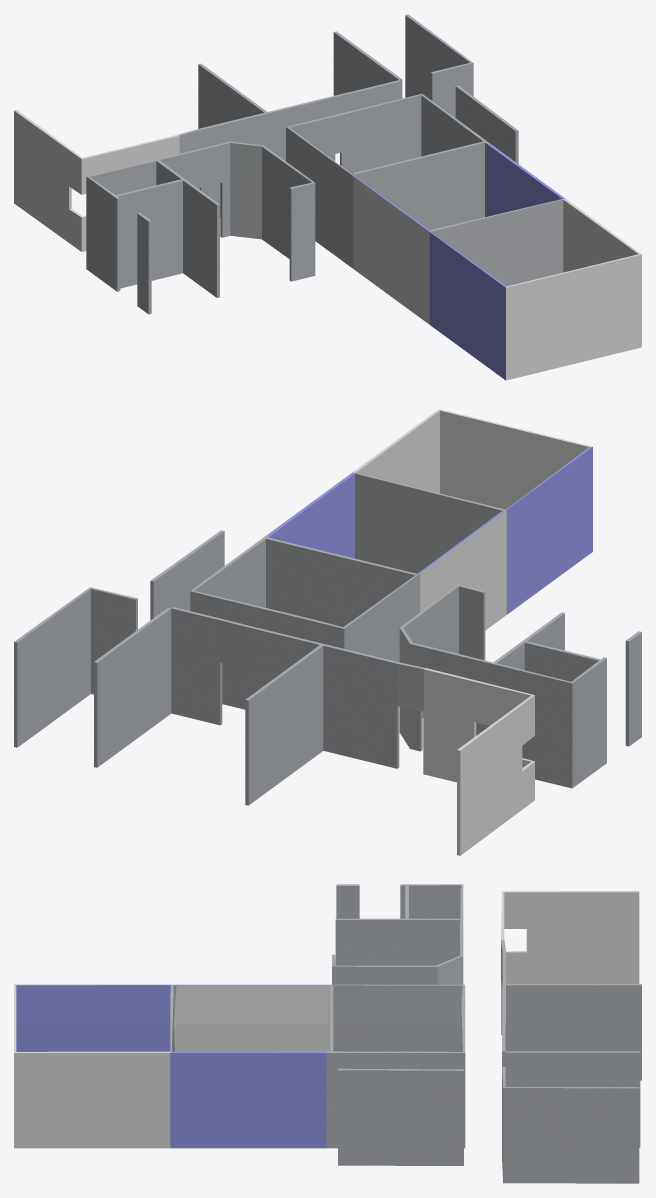
The model's file is inner-walls.fbx.
3 views of the same model, one above another, from view 1: azimuth 30°, elevation 25°; view 2: azimuth 150°, elevation 25°; view 3: azimuth 270°, elevation 25° (orthographic). The views are drawn at different scales.
Visible parts, largest first — view 1: innerwall; view 2: innerwall; view 3: innerwall.
Boxes of the visible parts, x1,y1,x2,y2 form: innerwall: [14, 14, 641, 380]; innerwall: [14, 409, 641, 855]; innerwall: [14, 884, 641, 1183].
Size of the model in its own units: 1378 by 300 by 1792.
